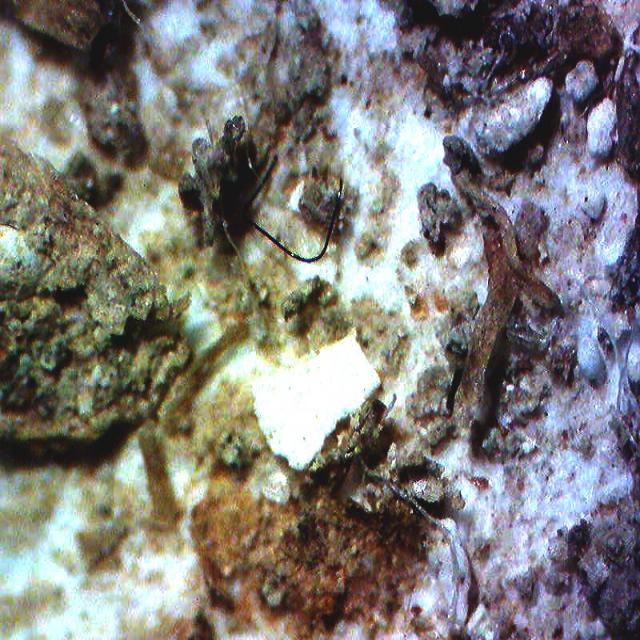microplastic: (242, 154, 343, 265)
